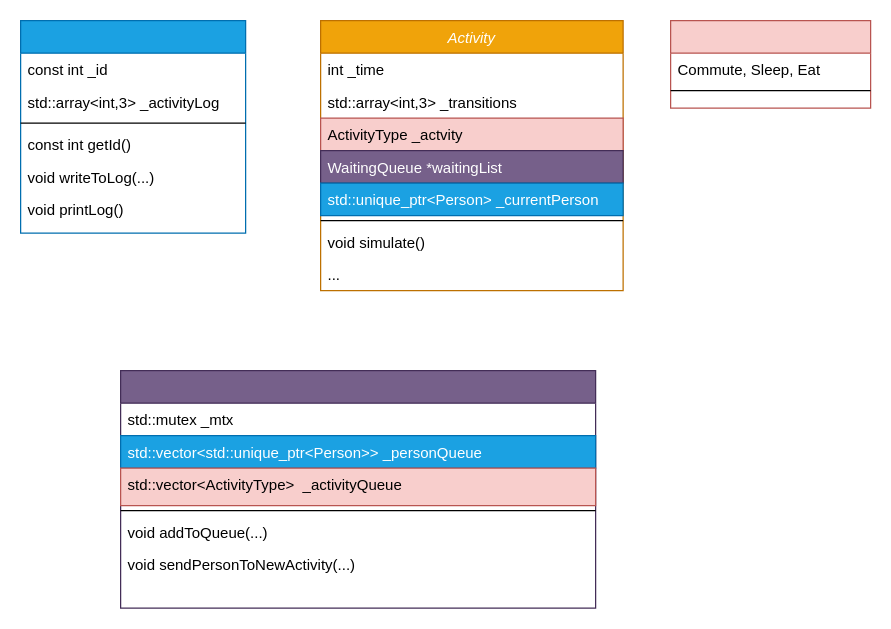
Some shapes in this 891 by 629 pixel diagram are drawn without their labels. The shapes that lost their labels are listed below. From the top down, each one's box as (x1, y1, x2, y2) in pixels, then its label:
(669, 19, 871, 108): enum ActivityType
(19, 19, 246, 233): Person
(119, 369, 596, 608): WaitingQueue
